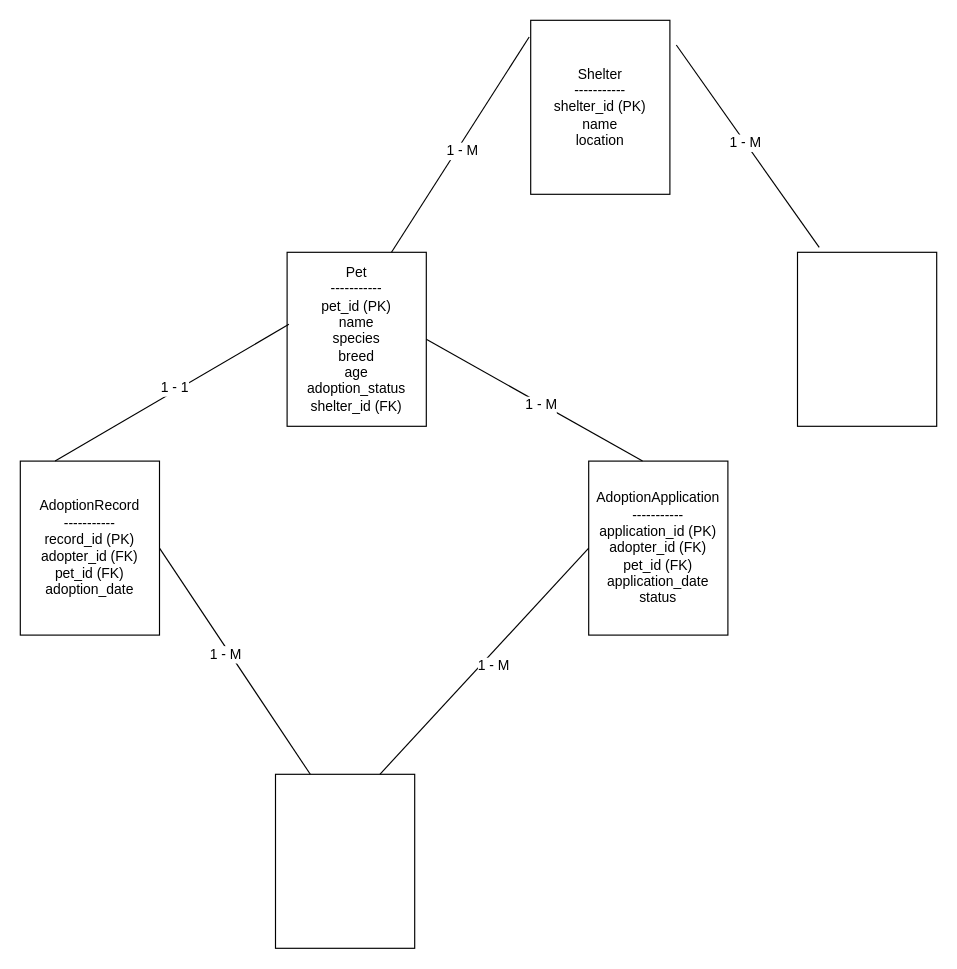
Some shapes in this 957 by 969 pixel diagram are drawn without their labels. Each missing label, with the centre of its shape:
"Adopter ----------- adopter_id (PK) name phone email address" goes at pixel 344 860.
"Staff ----------- staff_id (PK) name role shelter_id (FK)" goes at pixel 866 338.
